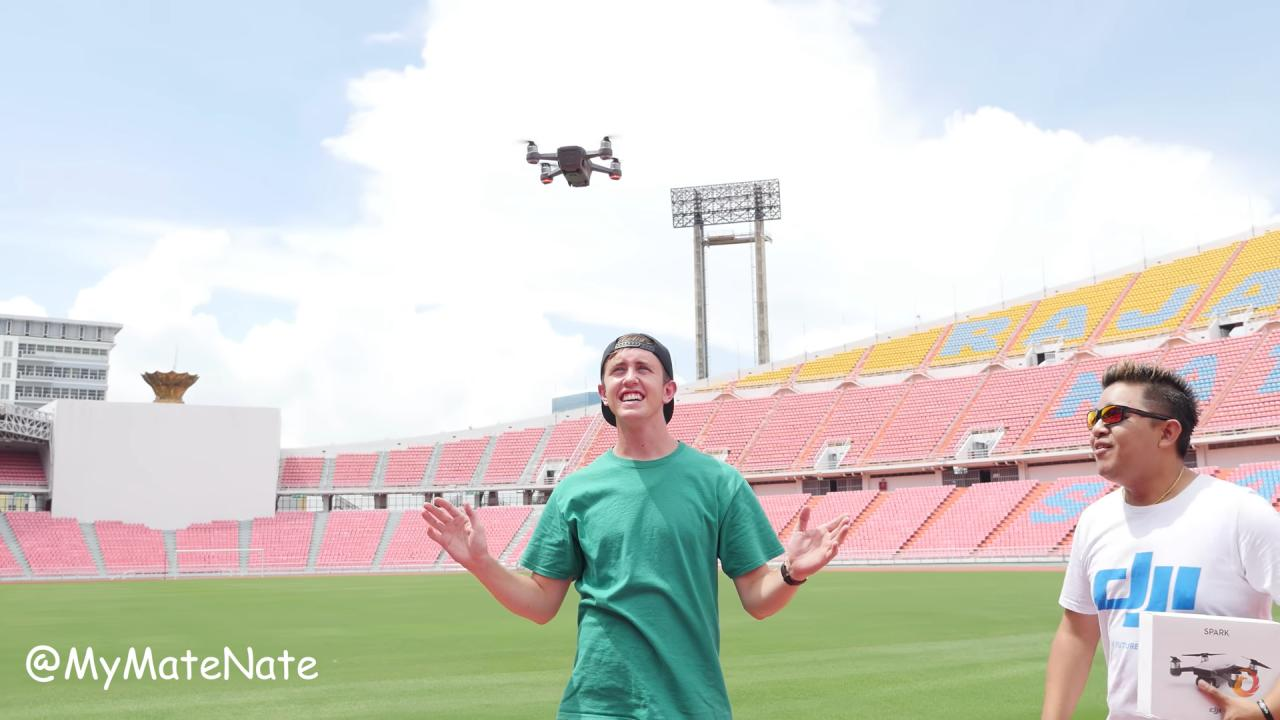Drone: (512, 123, 634, 199)
